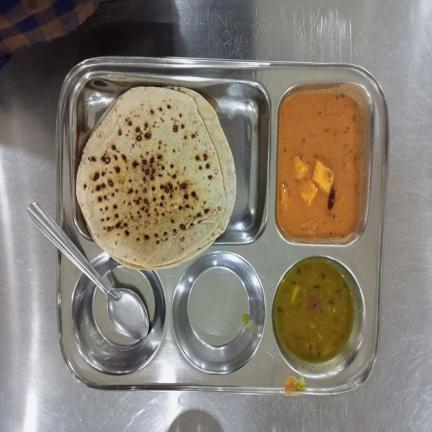Dal: (277, 260, 356, 362)
Paneer: (276, 92, 362, 238)
Plate: (56, 56, 390, 392)
Roti: (77, 85, 237, 270)
